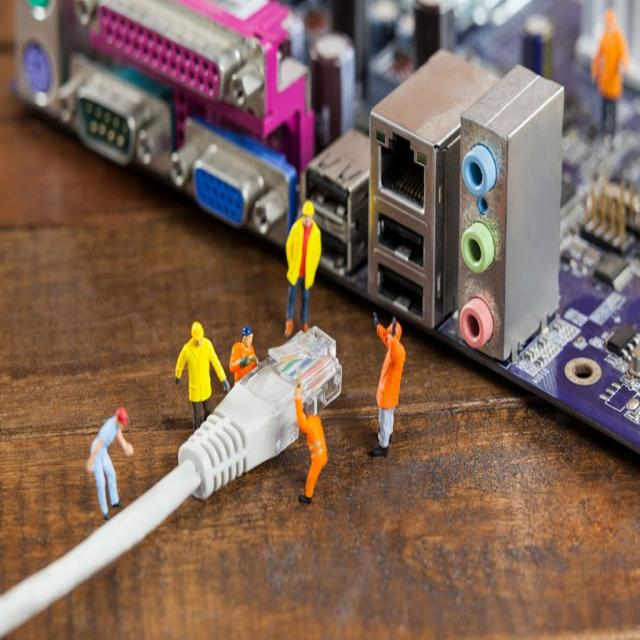Reflective-Jacket: (285, 218, 323, 290), (182, 338, 213, 403), (230, 340, 259, 379)
Safety-Helmet: (114, 402, 132, 429), (601, 4, 620, 24), (301, 198, 317, 216), (240, 322, 254, 338)
